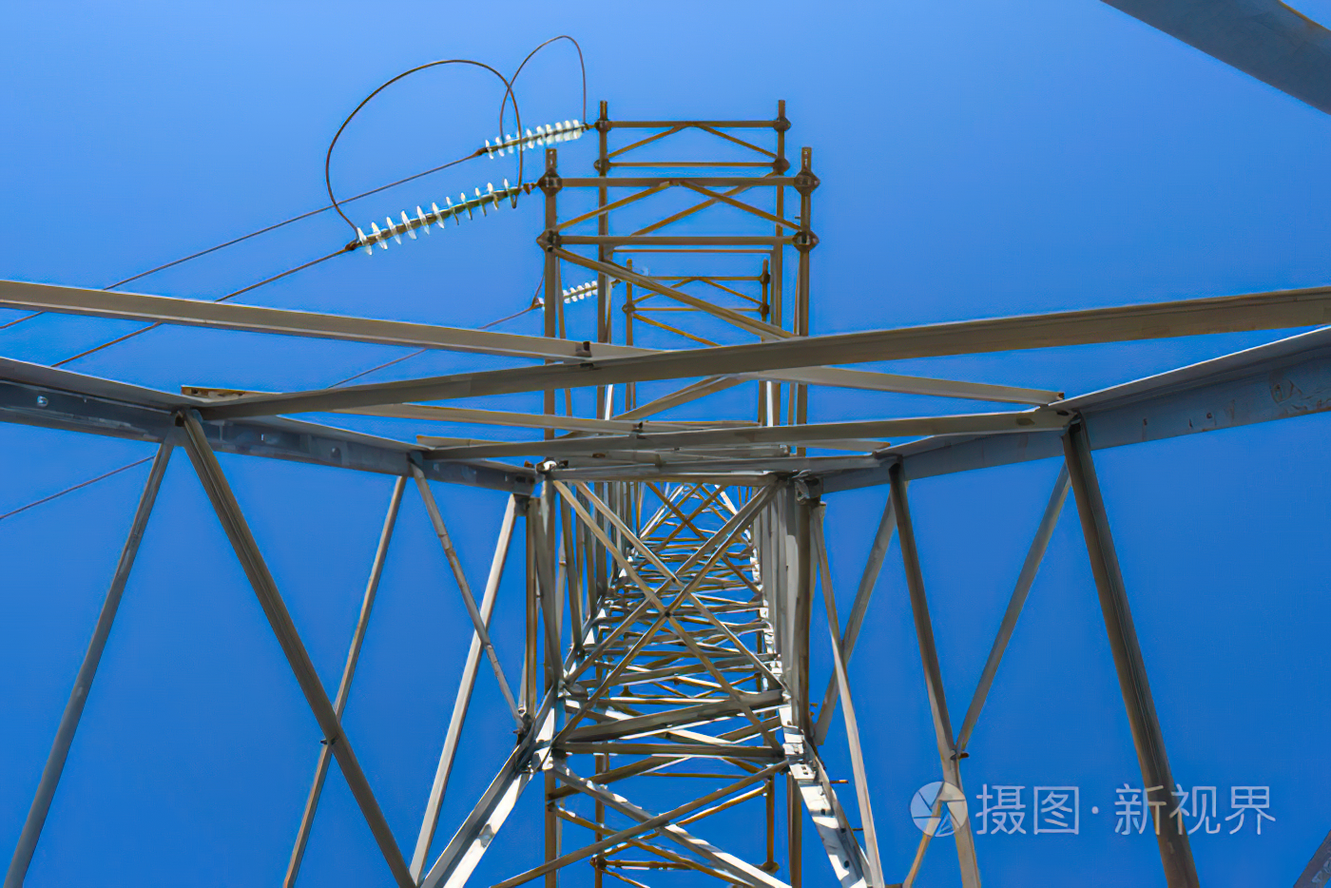insulator: (355, 173, 517, 259), (478, 118, 583, 154), (539, 280, 608, 309)
